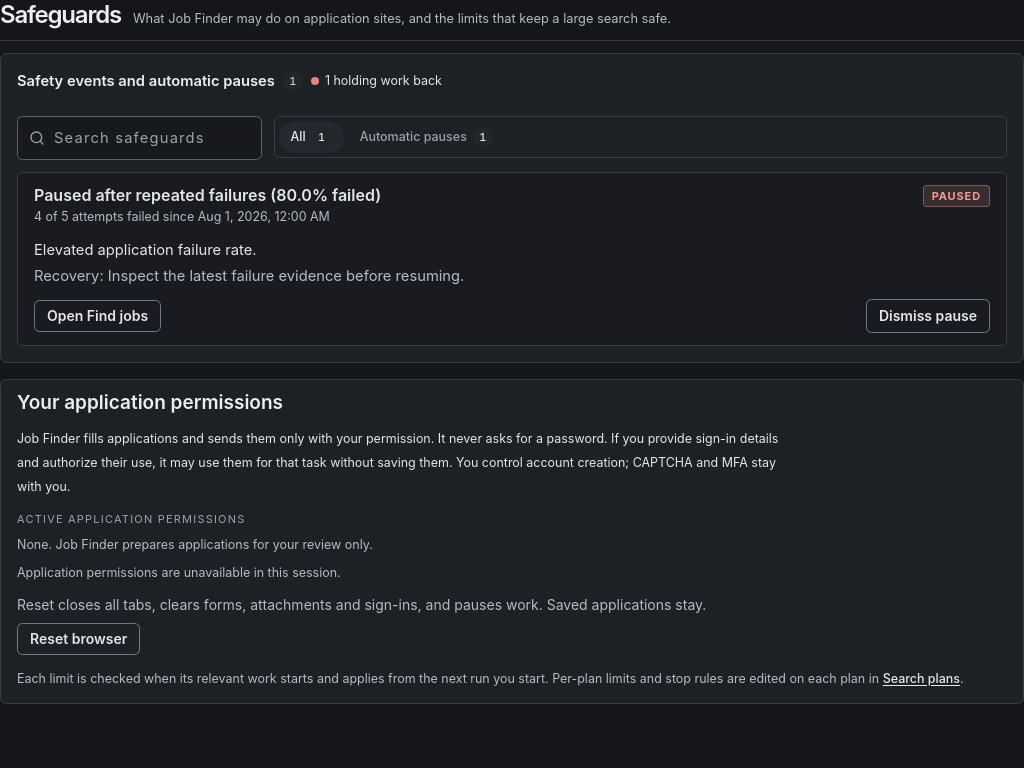
it: SafeguardsScreen › surfaces a mutation failure as an inline error on the row
Click the button "Dismiss pause" at (928, 316), box [866, 299, 990, 333]
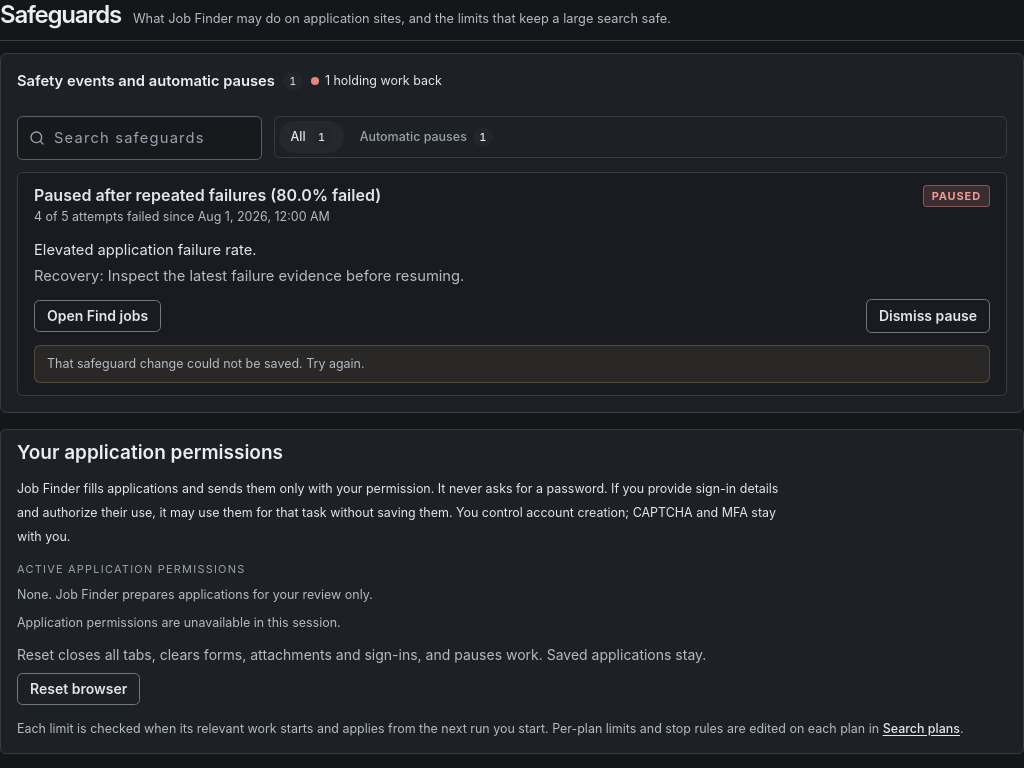
Expected: the message "That safeguard change could not be saved. Try again." is shown, [34, 345, 990, 383]
